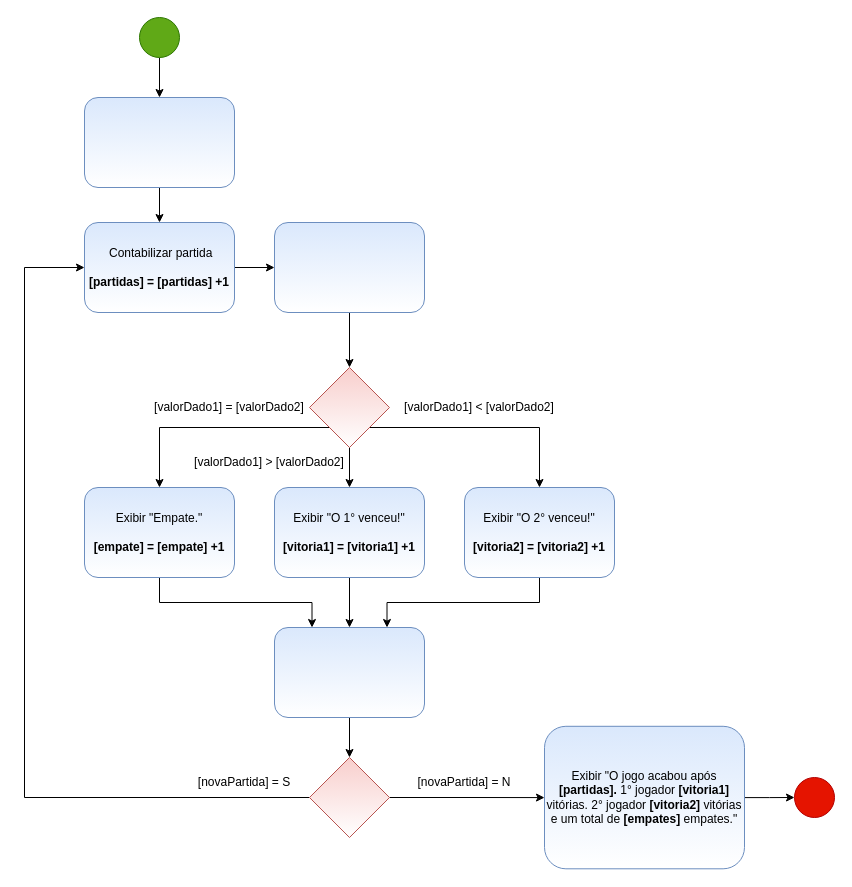
Some shapes in this 852 by 887 pixel diagram are drawn without their labels. The shapes that lost their labels are listed below. From the top down, each one's centre as x and y in pixels, then its label:
pixel 159 142: Iniciar programa [partidas = 0] [vitoria1 = 0] [vitoria2 = 0] [empate = 0]
pixel 349 267: Receber valor sorteado dos dados [valorDado1] [valorDado2]
pixel 349 672: Exibir "Nova partida? S ou N" [novaPartida]
